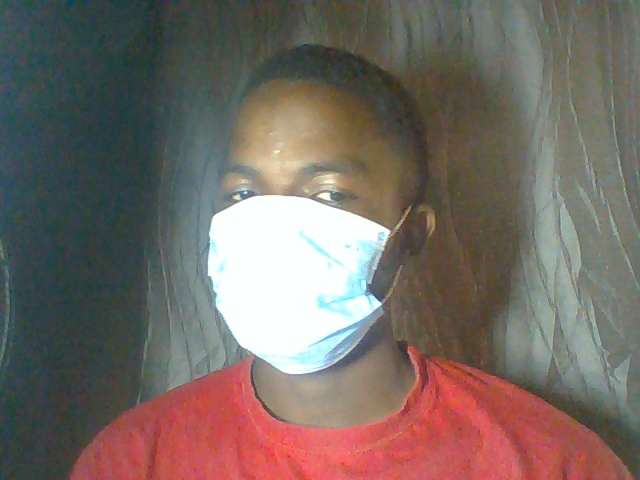MaskOn: (201, 36, 446, 375)
